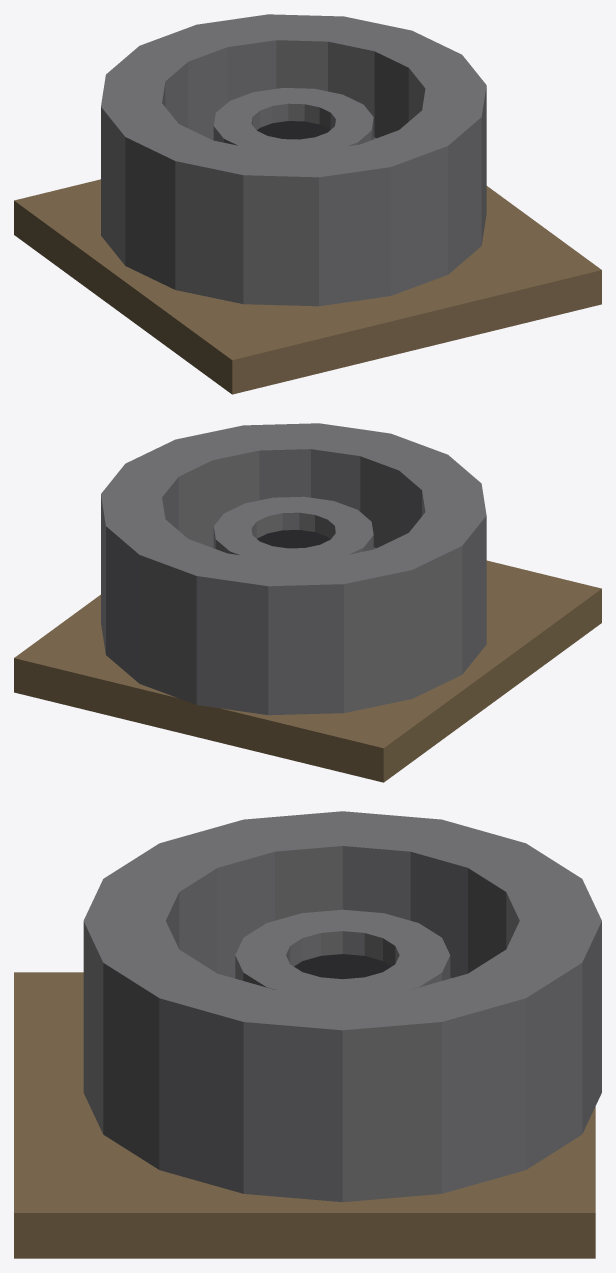
File: vge_oxygen_canister_filler.obj
3 renders of one model, top to bottom at view 1: azimuth 30°, elevation 25°; view 2: azimuth 150°, elevation 25°; view 3: azimuth 270°, elevation 25°, orthographic. The views are drawn at different scales.
Visible parts, largest first — view 1: vge_oxygen_canister_filler_1, vge_oxygen_canister_filler_0, vge_oxygen_canister_filler_3, vge_oxygen_canister_filler_4; view 2: vge_oxygen_canister_filler_1, vge_oxygen_canister_filler_0, vge_oxygen_canister_filler_3, vge_oxygen_canister_filler_4; view 3: vge_oxygen_canister_filler_1, vge_oxygen_canister_filler_0, vge_oxygen_canister_filler_3, vge_oxygen_canister_filler_4.
Part boxes in pixels (<box>): vge_oxygen_canister_filler_1: <box>101,14,486,306</box>; vge_oxygen_canister_filler_0: <box>14,179,601,394</box>; vge_oxygen_canister_filler_3: <box>213,88,373,151</box>; vge_oxygen_canister_filler_4: <box>257,121,330,139</box>; vge_oxygen_canister_filler_1: <box>101,423,486,715</box>; vge_oxygen_canister_filler_0: <box>14,560,601,782</box>; vge_oxygen_canister_filler_3: <box>213,496,373,560</box>; vge_oxygen_canister_filler_4: <box>257,530,330,548</box>; vge_oxygen_canister_filler_1: <box>83,811,601,1202</box>; vge_oxygen_canister_filler_0: <box>14,972,595,1258</box>; vge_oxygen_canister_filler_3: <box>235,909,450,995</box>; vge_oxygen_canister_filler_4: <box>294,954,391,979</box>.
Size of the model in its own units: 0.9 by 0.38 by 0.93.
